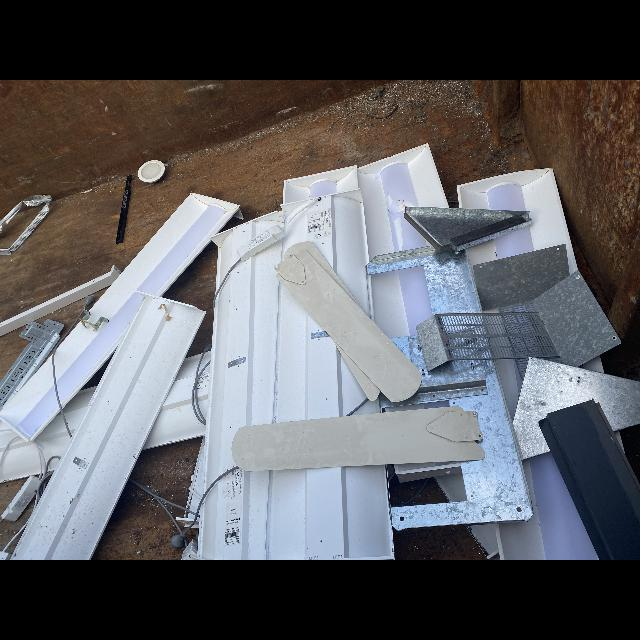Ferrous Metal: (10, 289, 206, 560), (275, 241, 421, 402), (201, 237, 283, 499), (87, 193, 244, 324), (197, 465, 395, 560), (539, 399, 640, 560), (232, 407, 485, 471), (274, 281, 367, 423), (457, 168, 578, 275), (281, 188, 375, 323), (357, 143, 449, 262), (0, 265, 122, 336), (142, 353, 206, 450), (210, 211, 284, 294), (60, 326, 128, 409), (0, 354, 61, 443), (495, 459, 546, 560), (54, 321, 107, 381), (282, 165, 359, 204), (370, 270, 409, 339), (450, 215, 526, 246), (0, 438, 40, 483), (37, 412, 71, 462), (496, 359, 519, 422), (66, 387, 95, 432), (465, 524, 499, 560), (466, 239, 497, 278), (280, 197, 319, 225), (434, 473, 467, 502), (116, 176, 130, 244), (190, 436, 205, 497), (197, 363, 210, 420), (0, 423, 15, 459), (186, 491, 201, 513), (198, 350, 211, 375), (176, 511, 195, 527), (192, 517, 200, 528)
Galvanized Steel: (378, 360, 533, 531), (514, 357, 640, 459), (416, 312, 560, 372), (534, 271, 621, 366), (366, 245, 481, 316), (473, 245, 569, 309), (404, 206, 531, 253), (0, 320, 64, 408), (408, 335, 488, 402), (0, 194, 51, 255), (390, 336, 412, 361)
